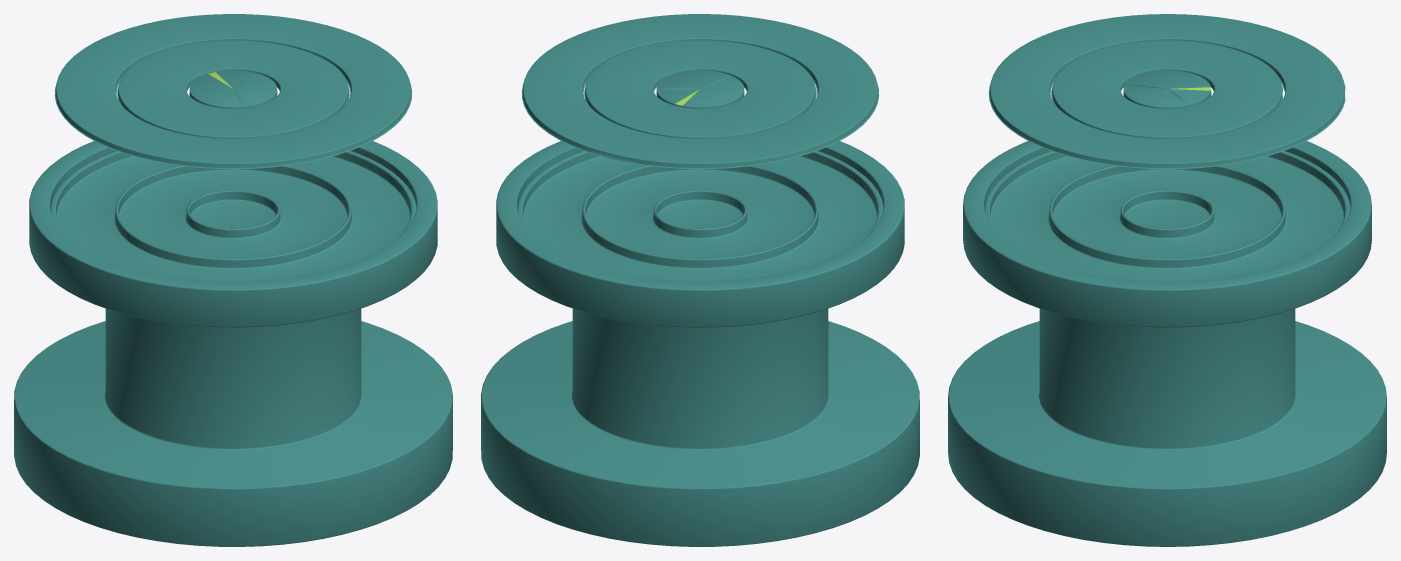
Rendered from PuzzleRoda.fbx.
The picture shows the model from 3 angles, left to right: view 1: azimuth 30°, elevation 25°; view 2: azimuth 150°, elevation 25°; view 3: azimuth 270°, elevation 25°; orthographic projection.
Parts seen in each view (by area): view 1: Cylinder.029, Cylinder.027, Cylinder.028, Cylinder.026; view 2: Cylinder.029, Cylinder.027, Cylinder.028, Cylinder.026; view 3: Cylinder.029, Cylinder.027, Cylinder.028, Cylinder.026.
Part boxes in pixels (<box>): Cylinder.029: <box>14,141,452,546</box>; Cylinder.027: <box>54,14,412,169</box>; Cylinder.028: <box>117,40,349,138</box>; Cylinder.026: <box>189,70,277,108</box>; Cylinder.029: <box>481,141,919,546</box>; Cylinder.027: <box>521,14,879,169</box>; Cylinder.028: <box>584,40,816,138</box>; Cylinder.026: <box>656,70,744,108</box>; Cylinder.029: <box>948,141,1386,546</box>; Cylinder.027: <box>988,14,1345,169</box>; Cylinder.028: <box>1051,40,1283,138</box>; Cylinder.026: <box>1123,70,1211,108</box>.
Bounding box in the file's own units: 142 × 131 × 142.
